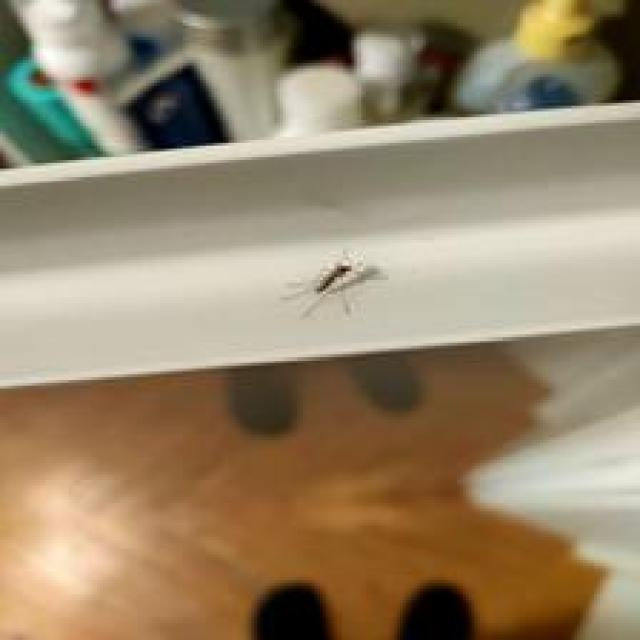Culex: (282, 253, 387, 318)
